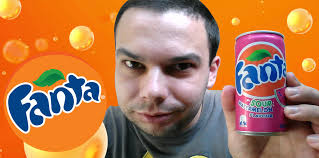fanta: (16, 70, 106, 158)
